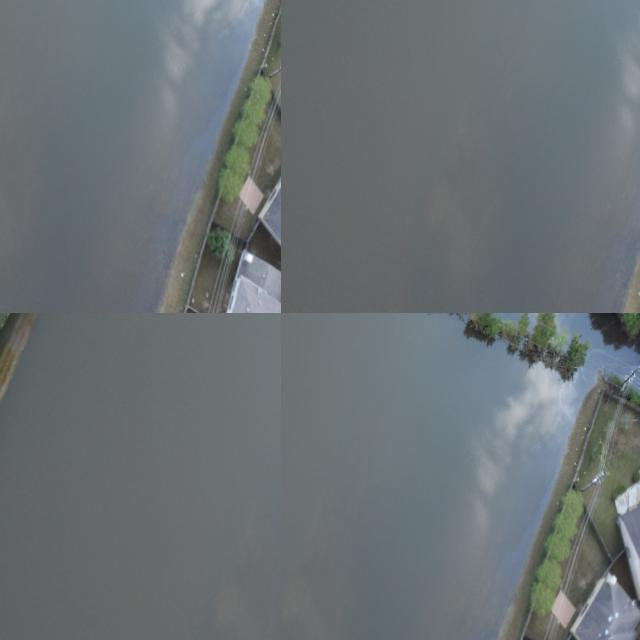fire: (281, 313, 640, 640)
